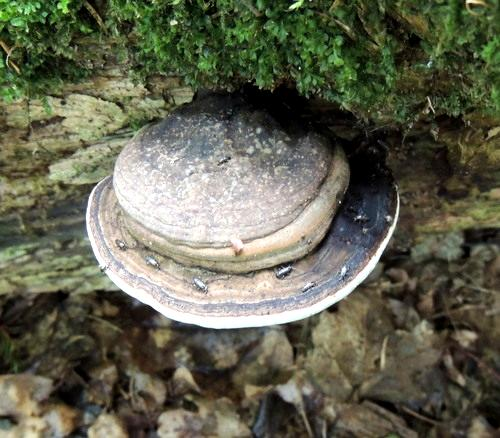Ganoderma - Fruit Body: (91, 96, 402, 330)
